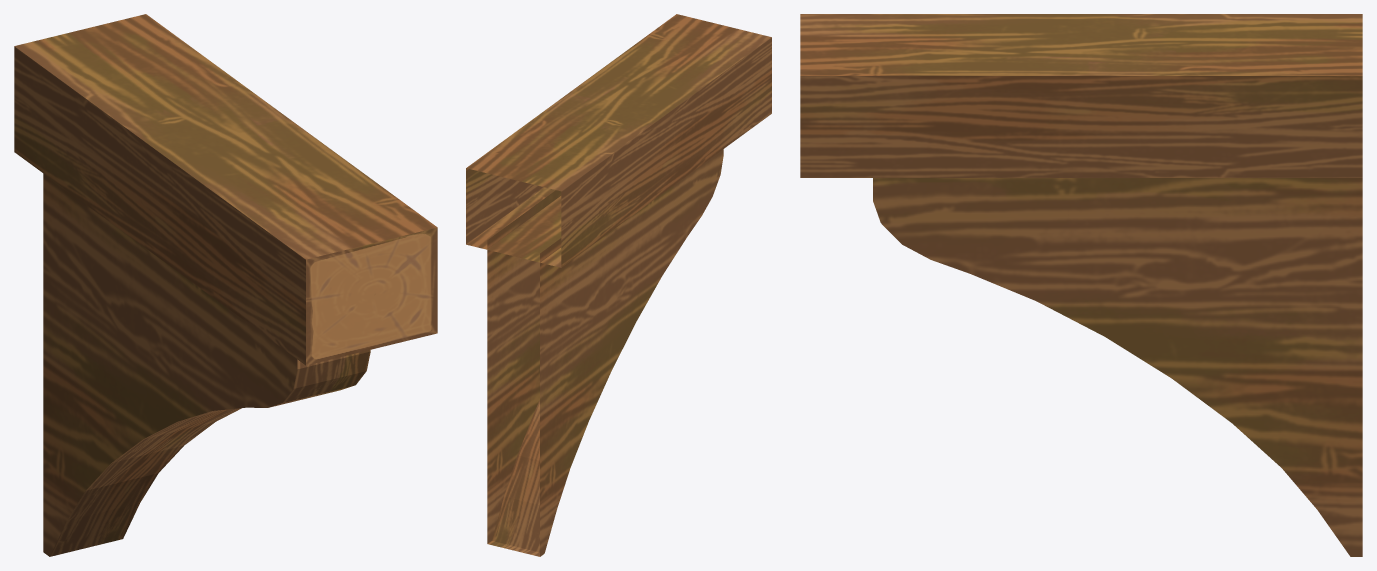
Rendered from roof_support2.gltf.
The picture shows the model from 3 angles, left to right: view 1: azimuth 30°, elevation 25°; view 2: azimuth 150°, elevation 25°; view 3: azimuth 270°, elevation 25°; orthographic projection. The views are drawn at different scales.
Parts seen in each view (by area): view 1: Roof_Support2; view 2: Roof_Support2; view 3: Roof_Support2.
Part boxes in pixels (x1=…): Roof_Support2: x1=14, y1=14, x2=437, y2=556; Roof_Support2: x1=466, y1=14, x2=771, y2=556; Roof_Support2: x1=800, y1=14, x2=1362, y2=556.
Bounding box in the file's own units: 0.1997 × 0.7429 × 0.7651.
1 material, 1 textured.
